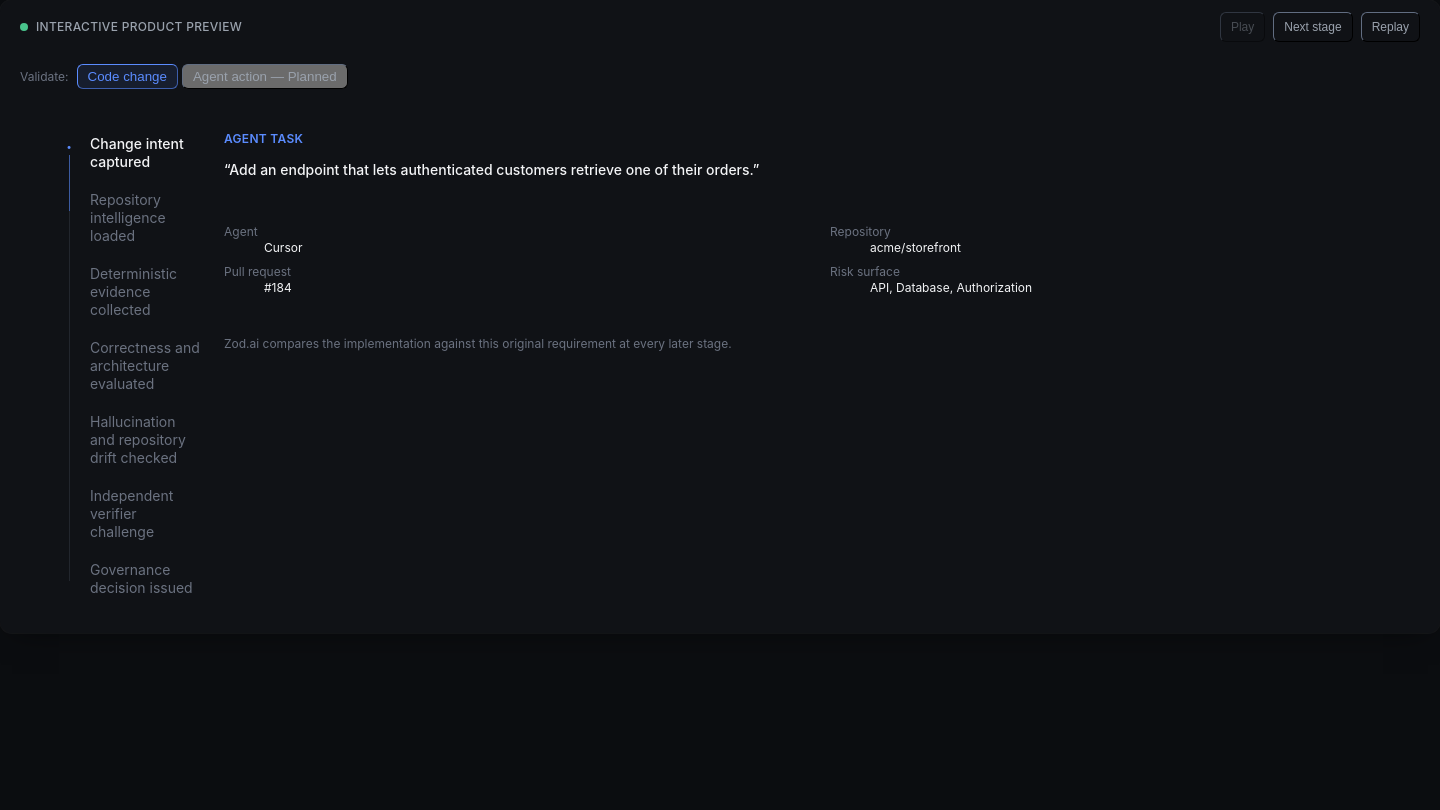
Test case: ValidationConsole › with reduced motion preferred › never auto-advances, disables Play/Pause, and only moves via Next Stage
This screenshot has width=1440, height=810.
Expected: the button "Play" is disabled, [1220, 12, 1265, 42]
Expected: the text "Change intent captured" is shown, [90, 135, 200, 171]
Click the button "Next stage": (1313, 27) [1273, 12, 1353, 42]
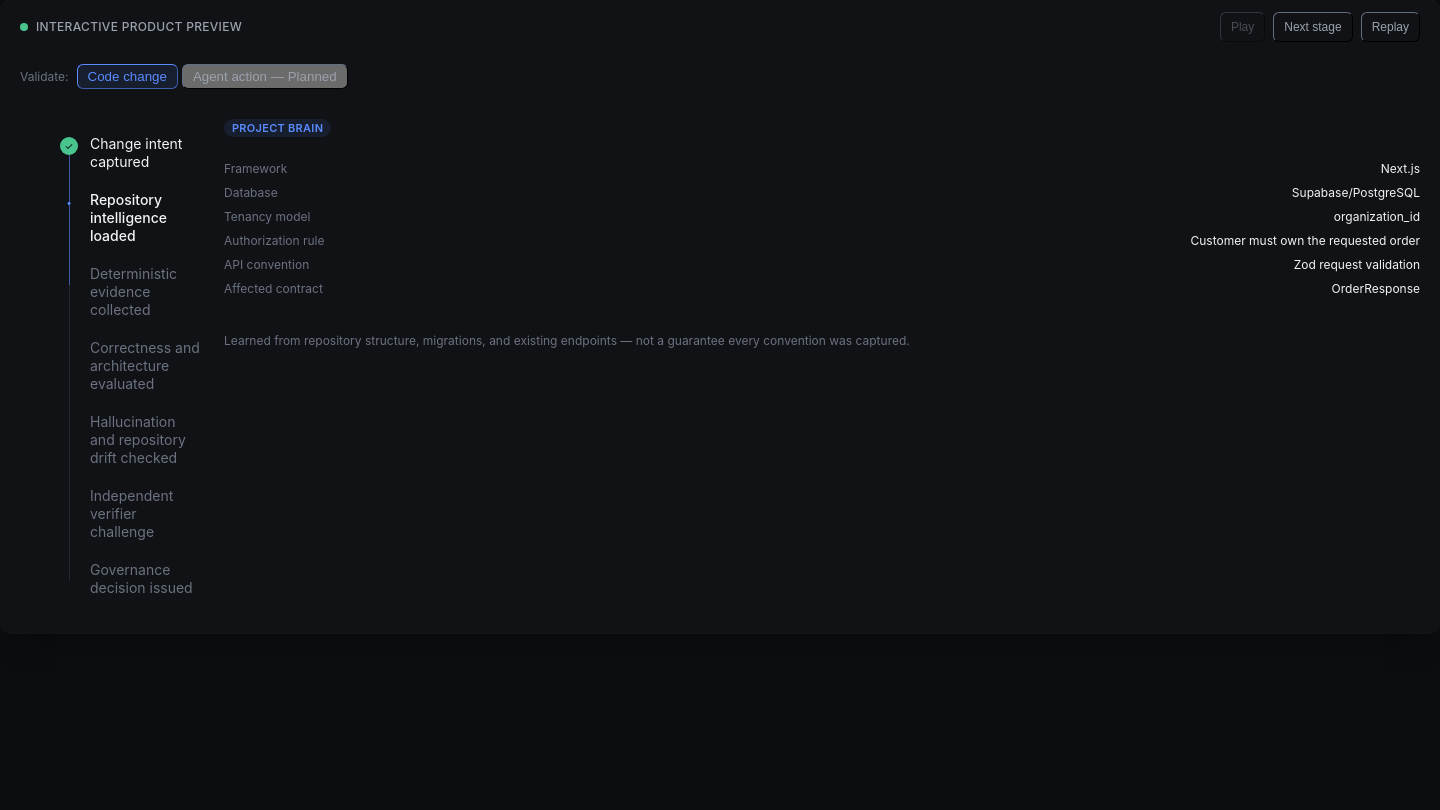
Expected: the text "Project Brain" is shown, [224, 119, 331, 137]
